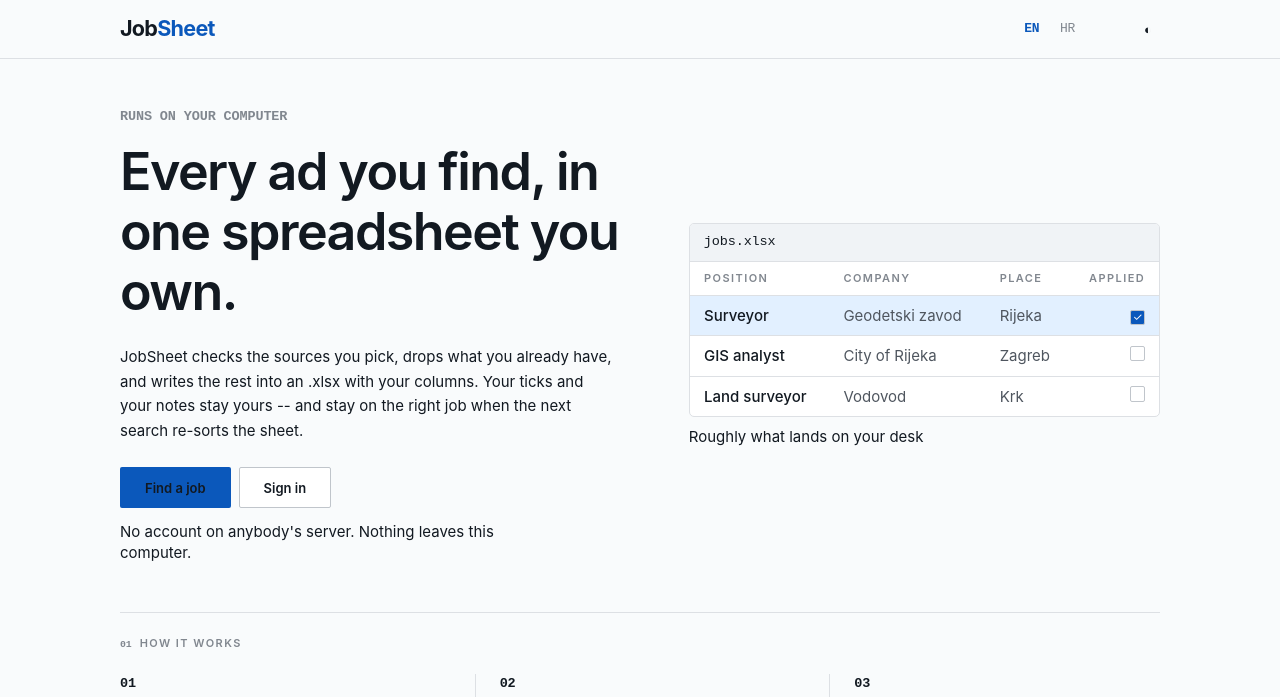
Test: the front page › opens the form its button promised, not the other one
Click the button "Find a job" at (175, 488), box [120,467,231,508]
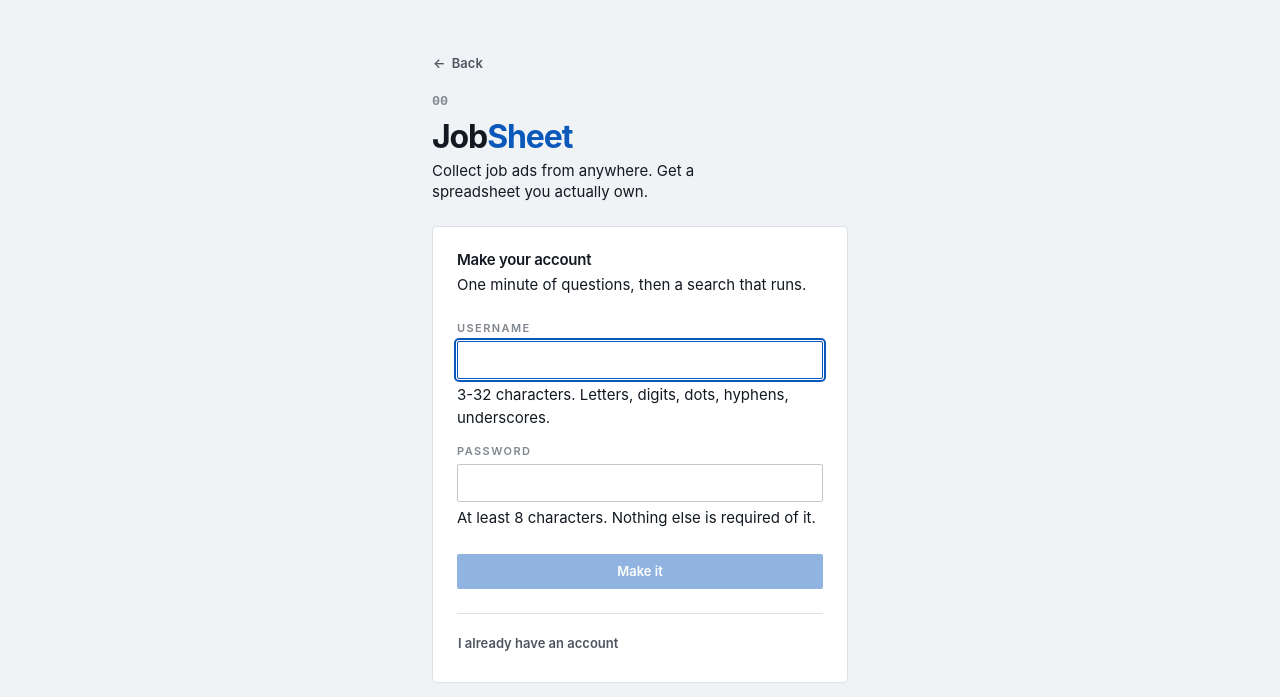
Check: the heading "Make your account" is shown, box [457,250,591,269]
